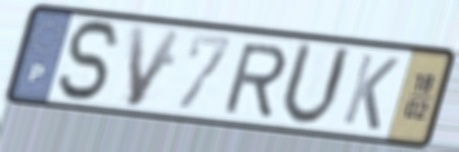7: (175, 31, 234, 114)
K: (338, 51, 403, 134)
R: (220, 41, 290, 119)
S: (56, 17, 126, 105)
U: (276, 38, 354, 129)
V: (125, 23, 186, 111)
